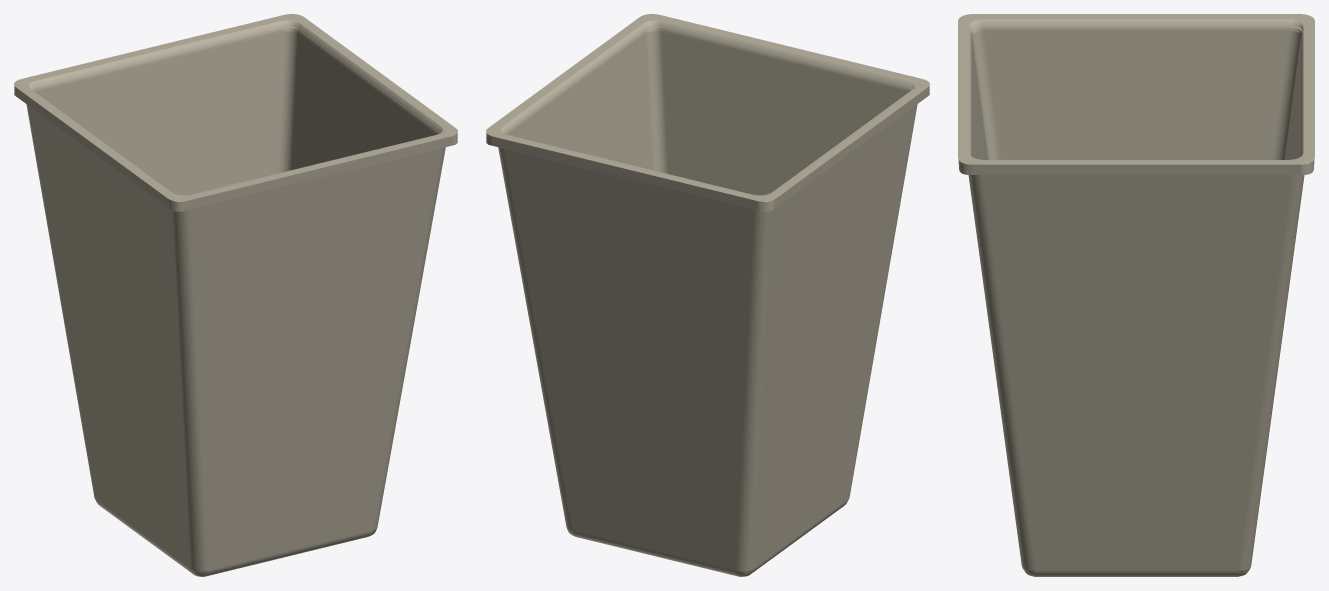
The model's file is commonTrashcan.fbx.
3 renders of one model, left to right at view 1: azimuth 30°, elevation 25°; view 2: azimuth 150°, elevation 25°; view 3: azimuth 270°, elevation 25°, orthographic. The views are drawn at different scales.
Visible parts, largest first — view 1: Cube; view 2: Cube; view 3: Cube.
Part boxes in pixels (left/top/right/bottom): Cube: left=14, top=14, right=457, bottom=576; Cube: left=486, top=14, right=929, bottom=576; Cube: left=958, top=14, right=1314, bottom=576.
Bounding box in the file's own units: 209 × 287 × 209.
